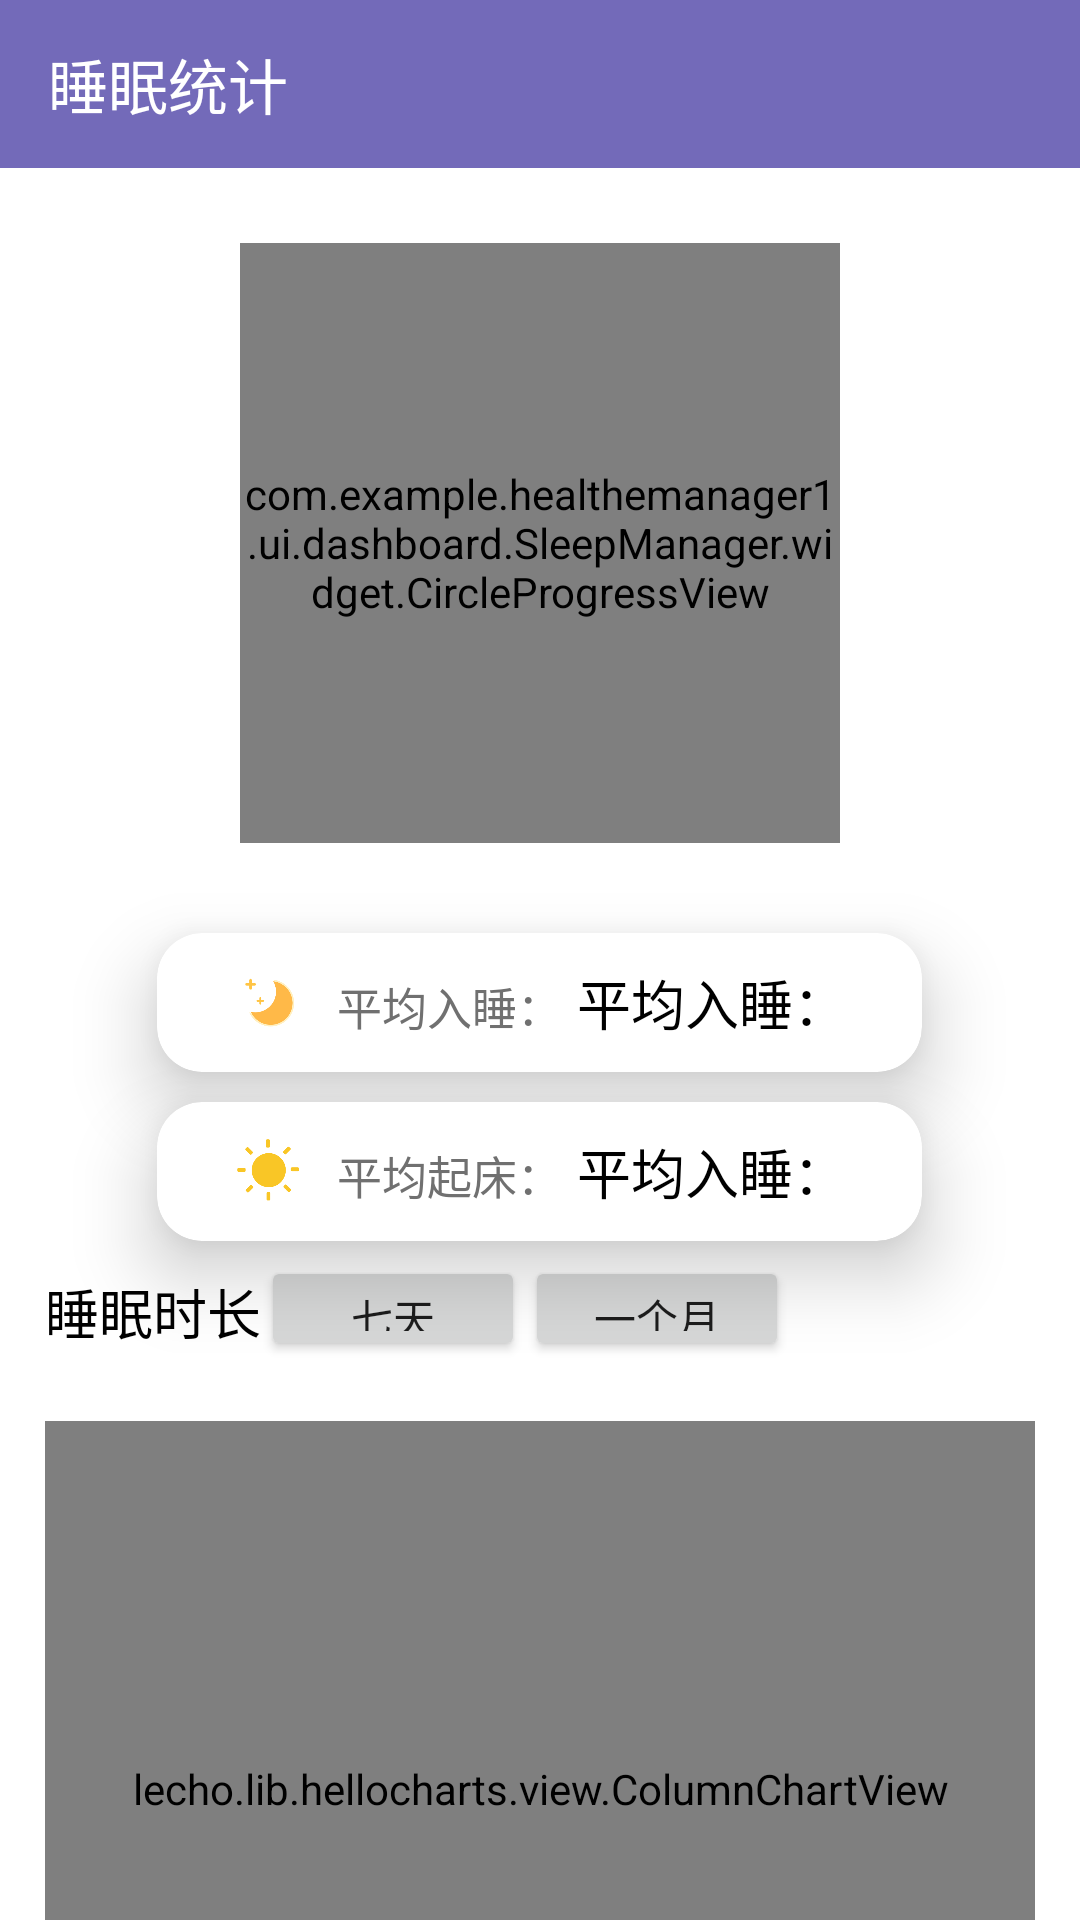

Locate icon controls on the screen. Image size 1080x1920, boxes as (x1, y1, x2, y2).
taiyang: (237, 1139, 299, 1201)
yueliang: (245, 979, 294, 1027)
